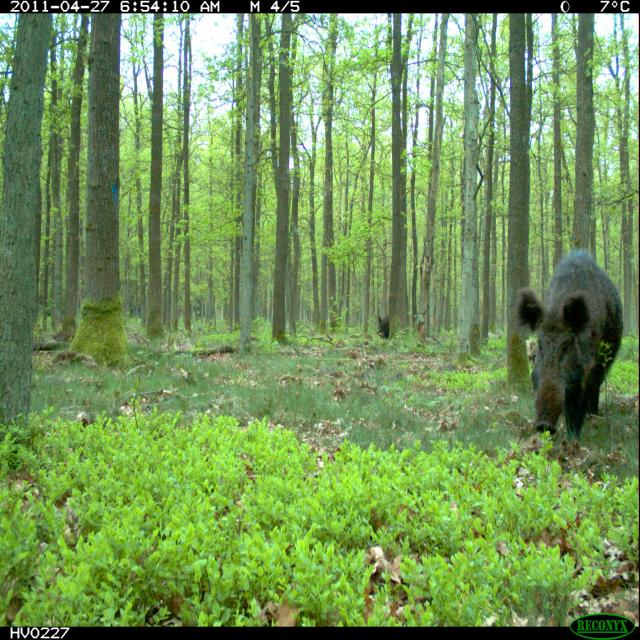boar: (480, 240, 636, 482), (371, 301, 398, 347)
